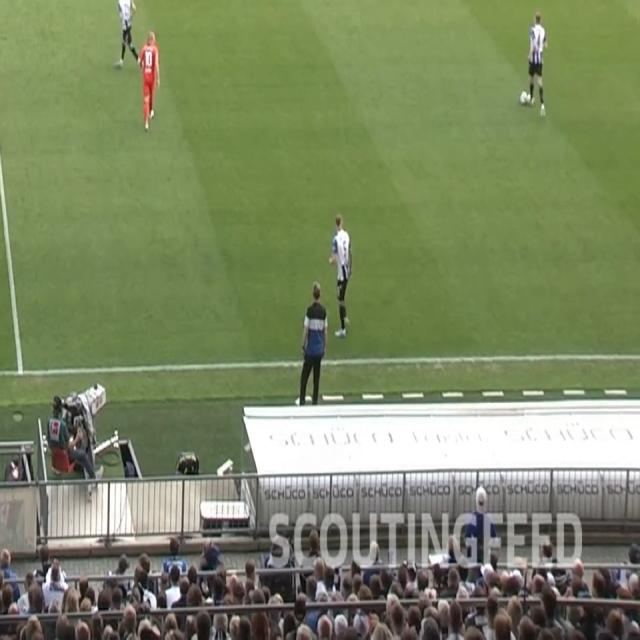ball: (519, 90, 529, 106)
